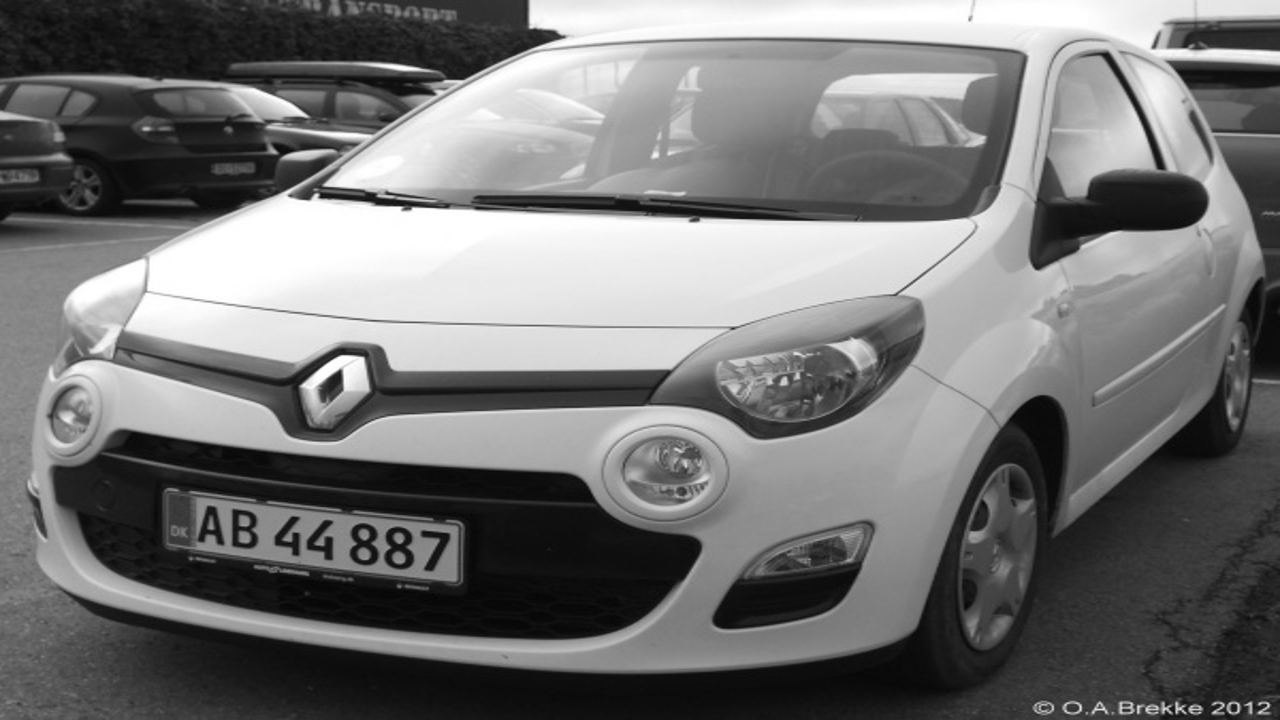license: (154, 477, 480, 605), (209, 152, 261, 181), (1, 162, 42, 186)
